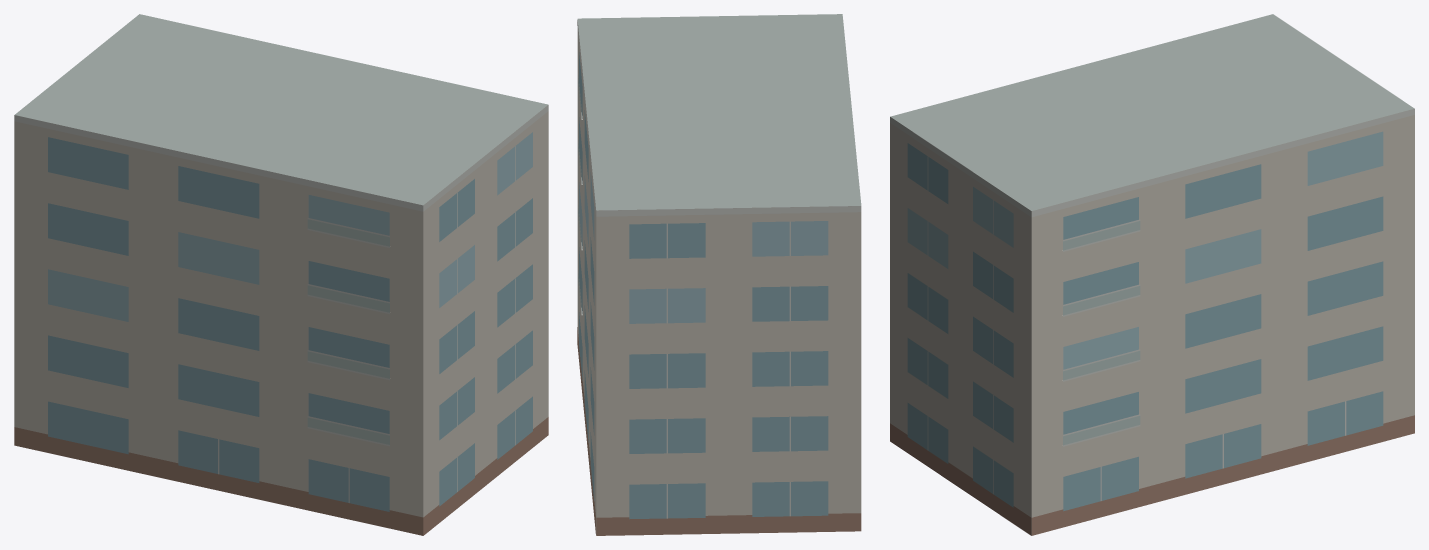
File: residential-442de464-efb7-4d7a-871a-ed82c010a607.glb
3 renders of one model, left to right at view 1: azimuth 30°, elevation 25°; view 2: azimuth 150°, elevation 25°; view 3: azimuth 270°, elevation 25°, orthographic.
Visible parts, largest first — view 1: residential-442de464-efb7-4d7a-871a-ed82c010a607.tmp; view 2: residential-442de464-efb7-4d7a-871a-ed82c010a607.tmp; view 3: residential-442de464-efb7-4d7a-871a-ed82c010a607.tmp.
Part boxes in pixels (bbox=[...]): residential-442de464-efb7-4d7a-871a-ed82c010a607.tmp: bbox=[14, 14, 548, 535]; residential-442de464-efb7-4d7a-871a-ed82c010a607.tmp: bbox=[577, 14, 861, 535]; residential-442de464-efb7-4d7a-871a-ed82c010a607.tmp: bbox=[890, 14, 1414, 535].
Size of the model in its own units: 16.68 by 12.8 by 18.76.
